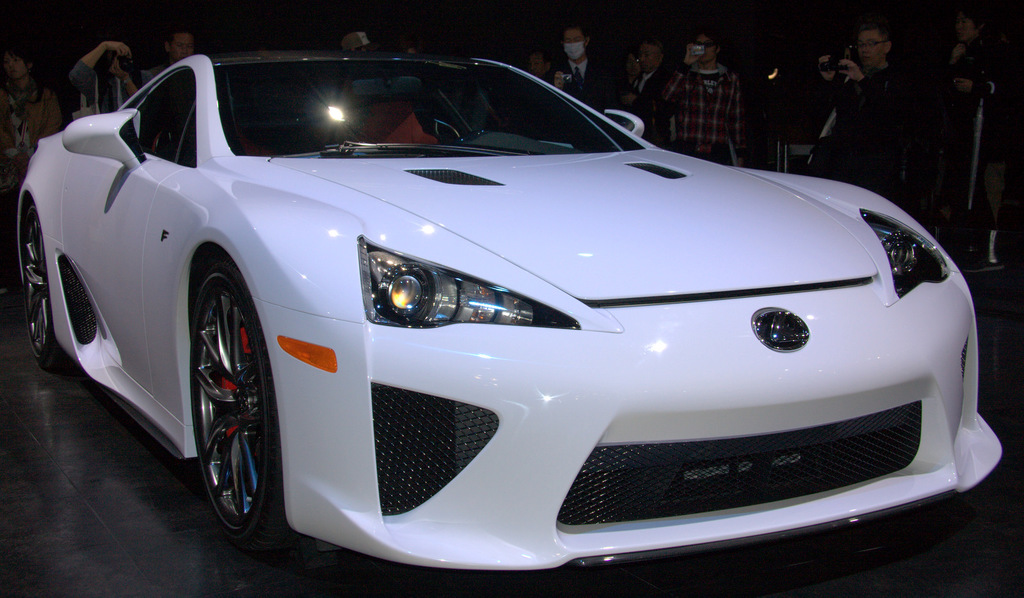person: (137, 26, 201, 90)
